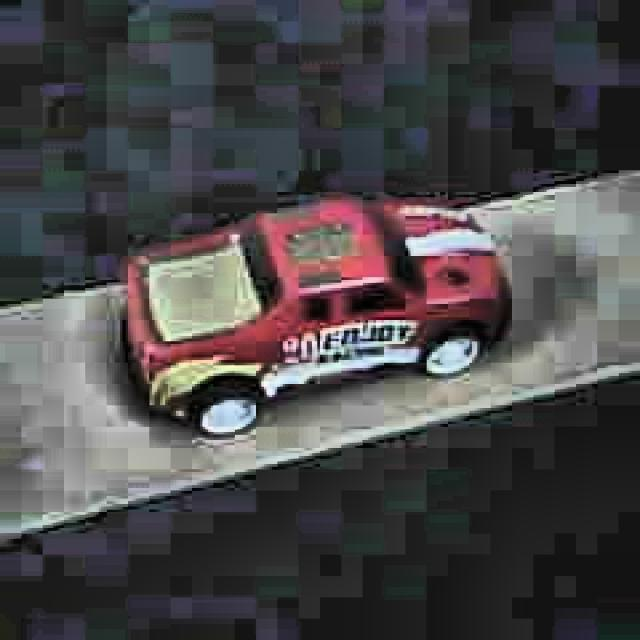car: (117, 190, 514, 436)
